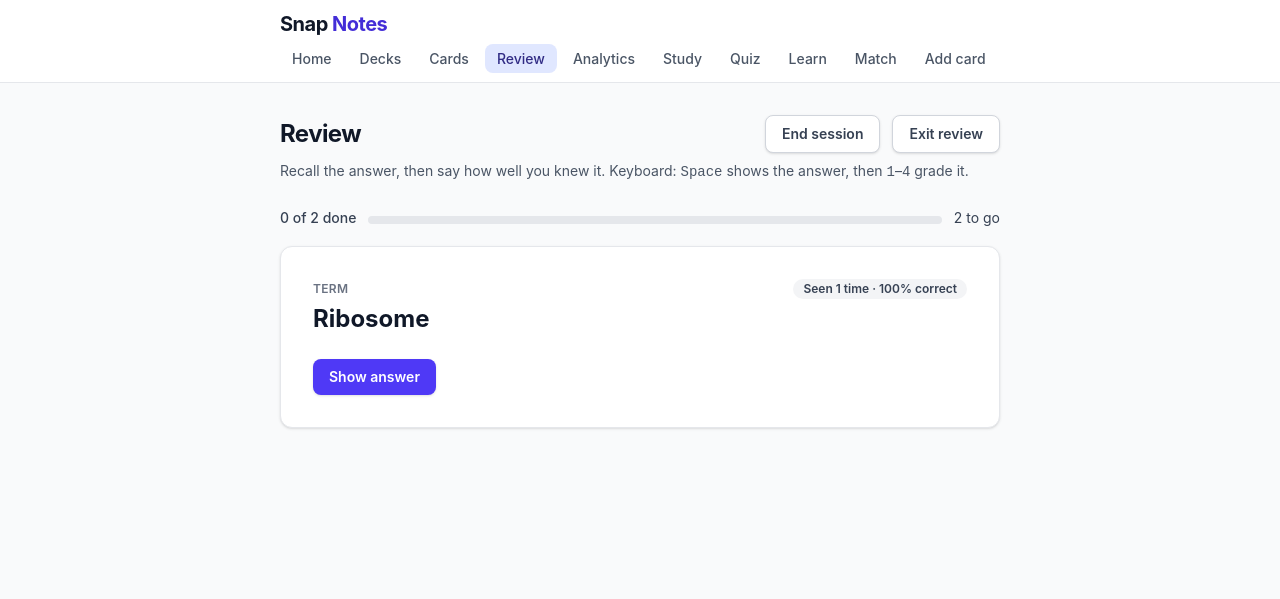
Scenario: a review session › ends early and keeps what was already graded
This screenshot has width=1280, height=599.
Click the button "Show answer" at coordinates (374, 377), box [313,359,436,395]
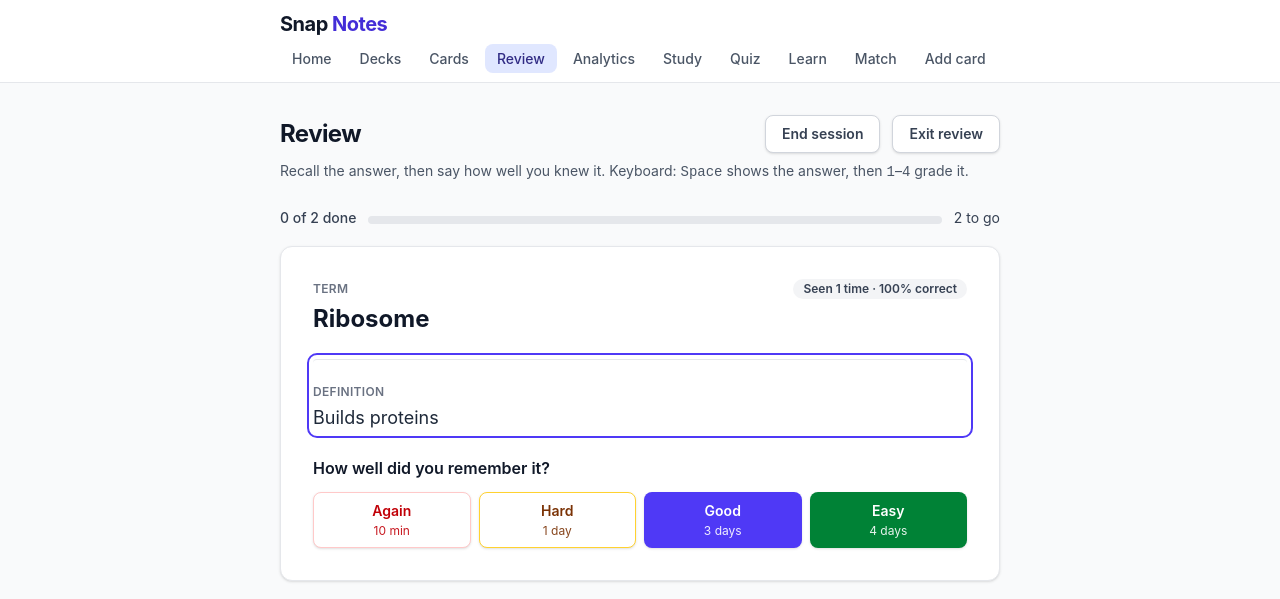
Click the button "Hard 1 day" at coordinates (557, 520), box [478,492,636,548]
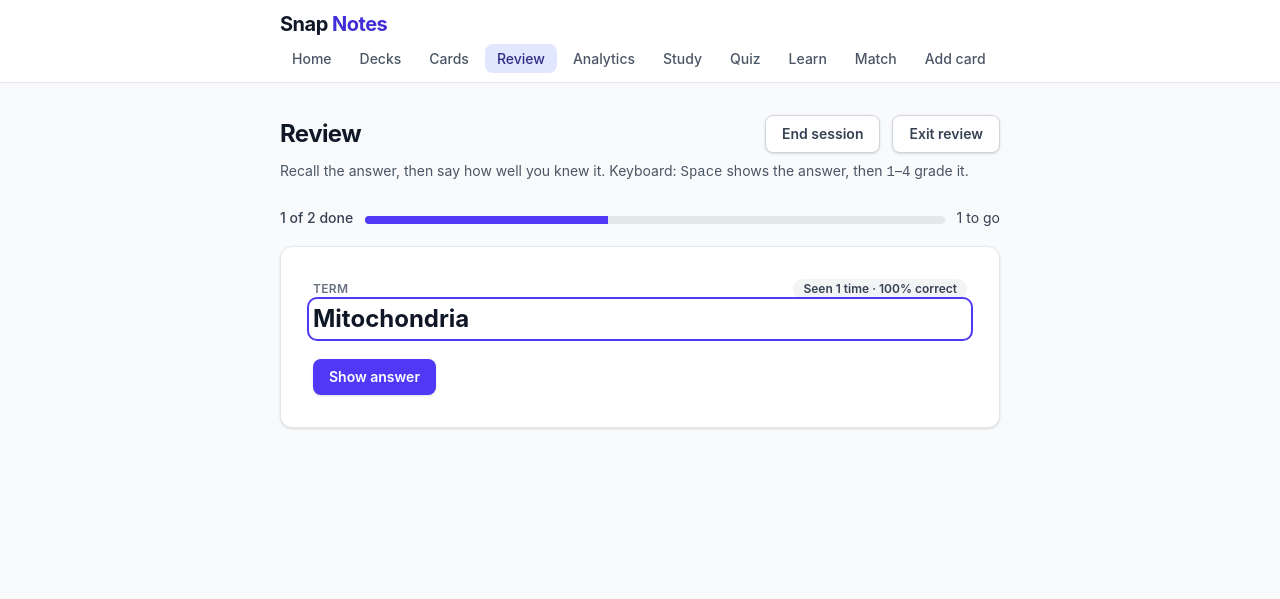
Click the button "End session" at coordinates (823, 134), box [765,115,880,153]
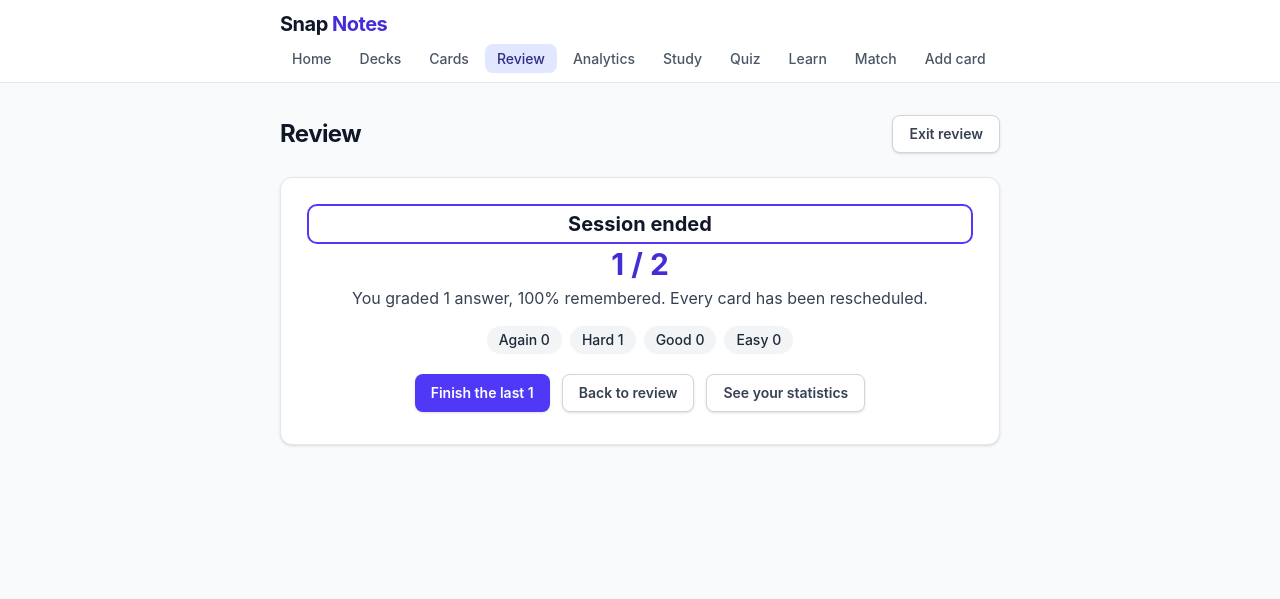
Expected: the heading "Session ended" is shown, [568,212,712,236]
Expected: the button "Finish the last 1" is shown, [415,374,550,412]
